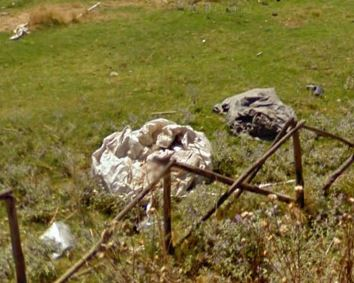trash: (78, 115, 231, 210), (209, 78, 305, 147), (36, 219, 80, 257), (6, 20, 38, 45), (305, 76, 329, 99)
